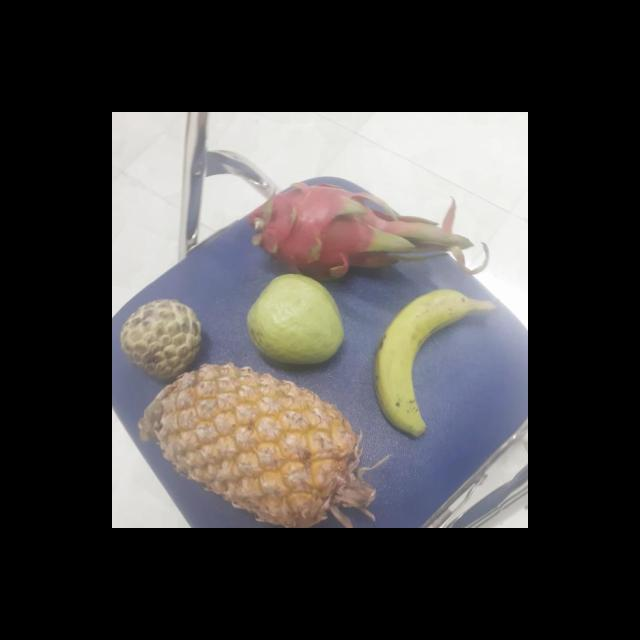Sakya fruit: (117, 300, 210, 382)
banana: (376, 290, 486, 436)
guava: (247, 275, 347, 364)
pineapple: (150, 364, 372, 525)
pitaya: (250, 177, 400, 278)
